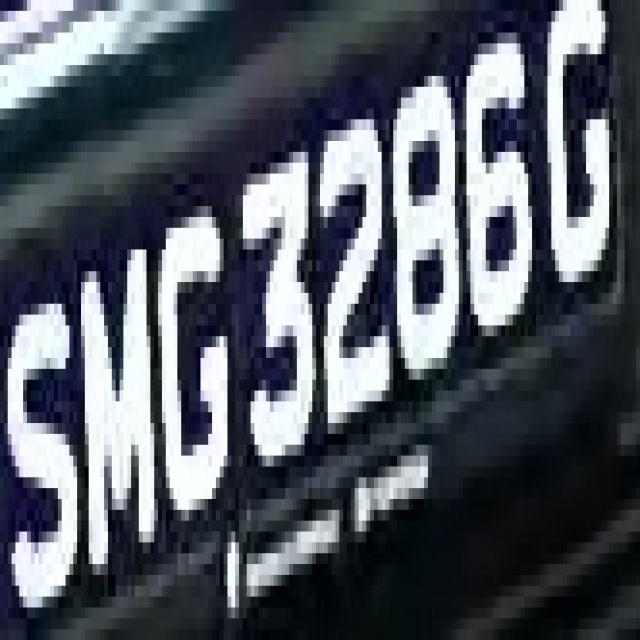2: (305, 120, 401, 467)
3: (231, 130, 320, 510)
6: (455, 22, 536, 358)
8: (374, 54, 466, 412)
G: (150, 195, 239, 542), (532, 0, 636, 293)
M: (73, 217, 154, 607)
S: (19, 261, 85, 618)
